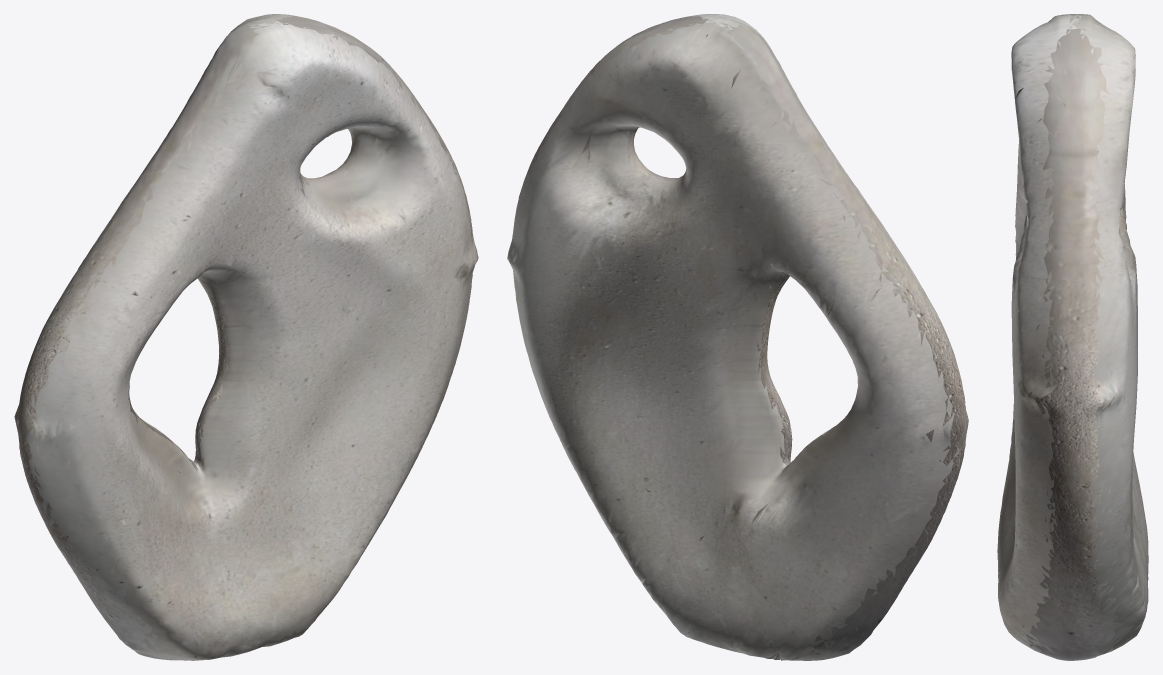
File: hy3d-aberturas.glb
3 views of the same model, side by side, from view 1: azimuth 30°, elevation 25°; view 2: azimuth 150°, elevation 25°; view 3: azimuth 270°, elevation 25° (orthographic). The views are drawn at different scales.
Visible parts, largest first — view 1: world; view 2: world; view 3: world.
Boxes of the visible parts, x1,y1,x2,y2 form: world: (14, 14, 478, 660); world: (507, 14, 968, 660); world: (997, 14, 1148, 660).
Size of the model in its own units: 0.8929 by 1.16 by 0.2518.
Materials: 1 (1 with a texture image).
